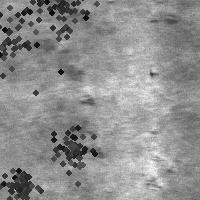rolled-in_scale: (53, 48, 106, 163), (8, 0, 112, 56), (35, 114, 109, 188), (0, 0, 55, 86), (137, 127, 178, 193), (0, 162, 39, 200)
